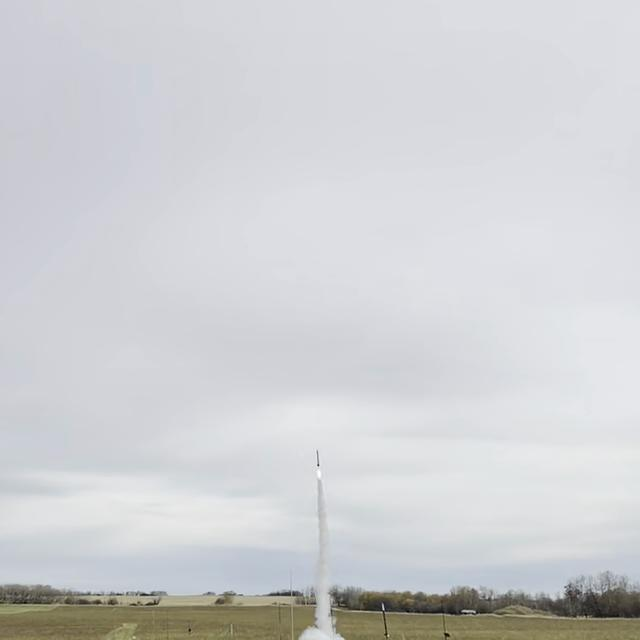smoke_trail_with_rocket: (300, 451, 346, 640)
